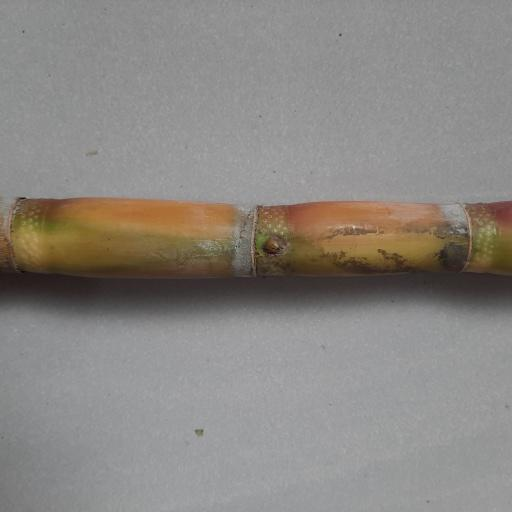Bud: (260, 234, 286, 256)
